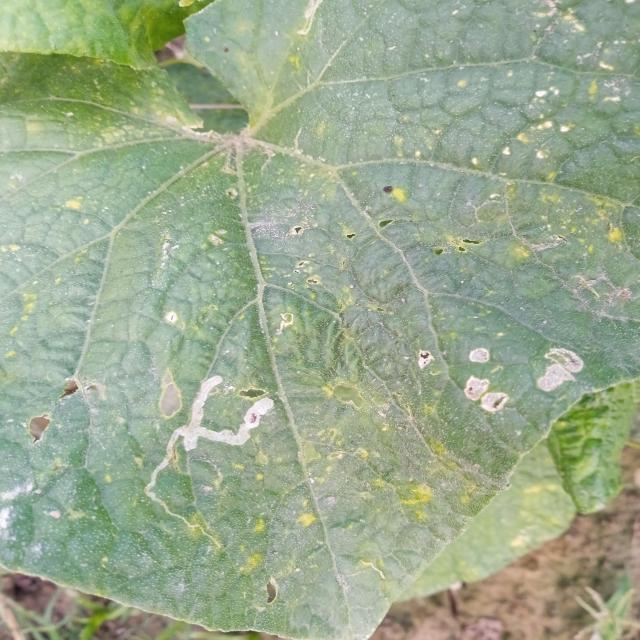cucumber_downy: (5, 122, 640, 622)
